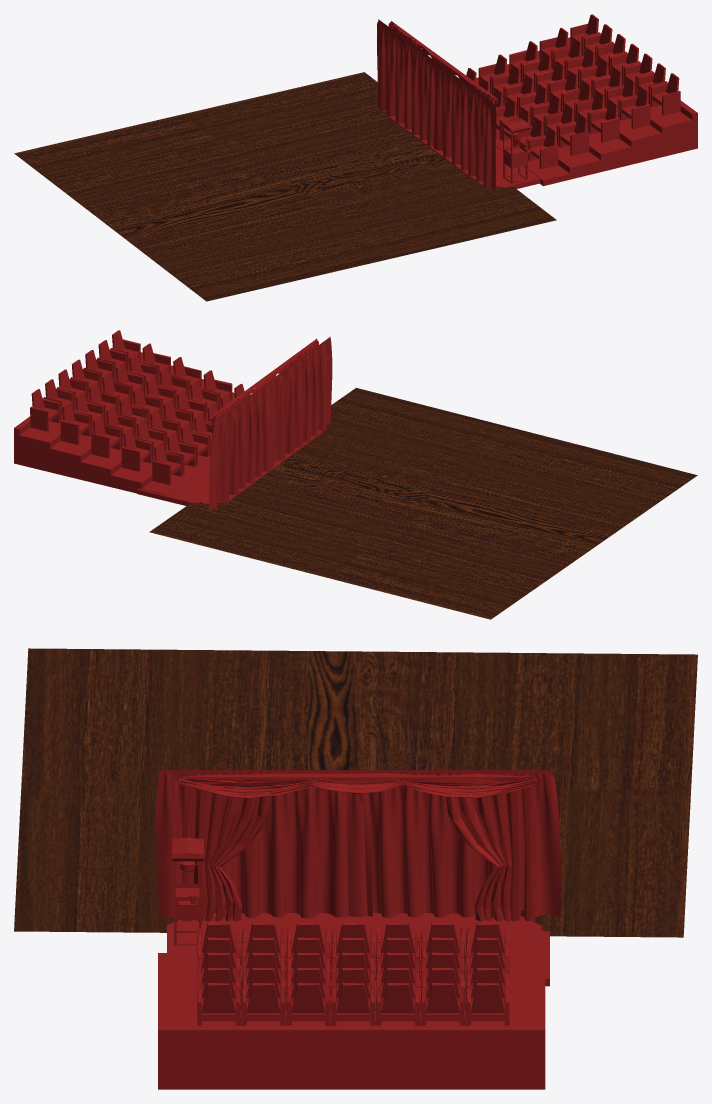
Rendered from scene_teathre.glb.
3 renders of one model, top to bottom at view 1: azimuth 30°, elevation 25°; view 2: azimuth 150°, elevation 25°; view 3: azimuth 270°, elevation 25°, orthographic. The views are drawn at different scales.
Visible parts, largest first — view 1: Plane, TF-DS-THEATER, object 2, object 4; view 2: Plane, TF-DS-THEATER, object 4, object 2; view 3: Plane, TF-DS-THEATER, object 4, object 2.
Boxes of the visible parts, x1,y1,x2,y2 form: Plane: [14, 72, 556, 301]; TF-DS-THEATER: [386, 14, 697, 188]; object 2: [433, 61, 496, 191]; object 4: [377, 19, 439, 146]; Plane: [149, 387, 697, 619]; TF-DS-THEATER: [14, 330, 322, 505]; object 4: [209, 378, 275, 510]; object 2: [270, 337, 332, 467]; Plane: [14, 648, 697, 937]; TF-DS-THEATER: [158, 773, 549, 1089]; object 4: [346, 770, 561, 918]; object 2: [156, 770, 372, 918].
Bounding box in the file's own units: 48.43 × 8.05 × 32.31.
Materials: 4 (1 with a texture image).
